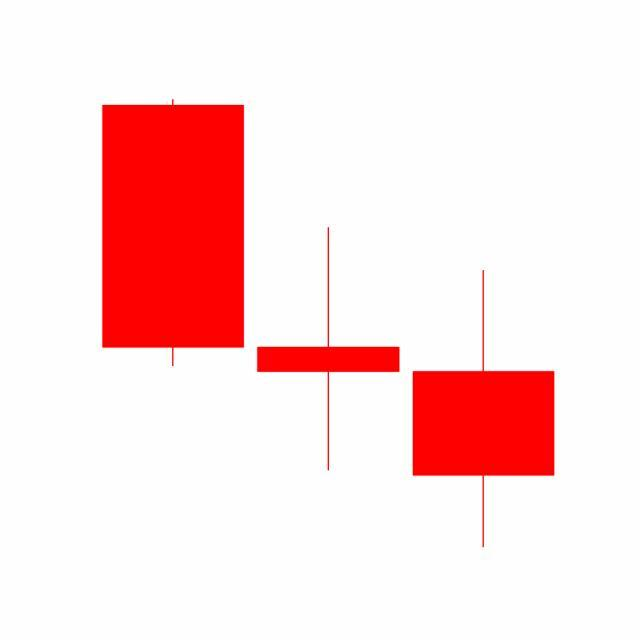Spinning Top: (250, 225, 407, 475)
